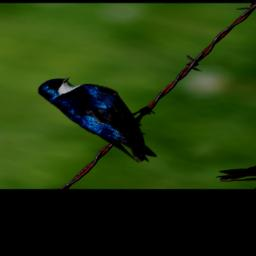Swallow: (0, 73, 208, 165)
